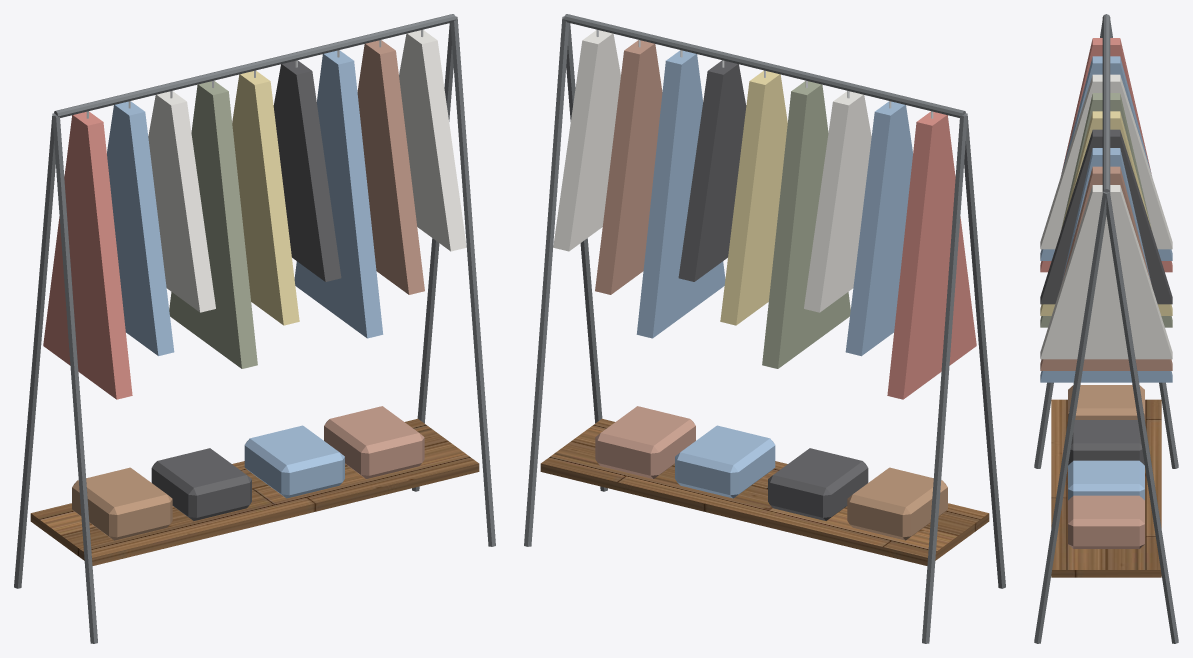
Rendered from wardrobe.glb.
3 views of the same model, side by side, from view 1: azimuth 30°, elevation 25°; view 2: azimuth 150°, elevation 25°; view 3: azimuth 270°, elevation 25° (orthographic). The views are drawn at different scales.
Parts seen in each view (by area): view 1: wardrobe_cloth_b, wardrobe_bed_w, wardrobe_steel_d, wardrobe_fabric3, wardrobe_cloth_r, wardrobe_dark, wardrobe_timber, wardrobe_fabric2, wardrobe_cloth_y, wardrobe_leather; view 2: wardrobe_cloth_b, wardrobe_bed_w, wardrobe_steel_d, wardrobe_fabric3, wardrobe_cloth_r, wardrobe_dark, wardrobe_timber, wardrobe_fabric2, wardrobe_cloth_y, wardrobe_leather; view 3: wardrobe_bed_w, wardrobe_steel_d, wardrobe_dark, wardrobe_timber, wardrobe_cloth_b, wardrobe_fabric3, wardrobe_leather, wardrobe_cloth_y, wardrobe_cloth_r, wardrobe_fabric2.
Boxes of the visible parts, bbox=[...] form: wardrobe_cloth_b: bbox=[107, 50, 383, 498]; wardrobe_bed_w: bbox=[148, 30, 466, 312]; wardrobe_steel_d: bbox=[14, 14, 495, 643]; wardrobe_fabric3: bbox=[324, 40, 424, 478]; wardrobe_cloth_r: bbox=[43, 111, 132, 399]; wardrobe_dark: bbox=[151, 60, 341, 520]; wardrobe_timber: bbox=[30, 418, 479, 565]; wardrobe_fabric2: bbox=[169, 81, 257, 368]; wardrobe_cloth_y: bbox=[232, 71, 299, 325]; wardrobe_leather: bbox=[72, 467, 172, 540]; wardrobe_cloth_b: bbox=[636, 50, 912, 498]; wardrobe_bed_w: bbox=[553, 30, 871, 312]; wardrobe_steel_d: bbox=[524, 14, 1005, 643]; wardrobe_fabric3: bbox=[595, 40, 695, 478]; wardrobe_cloth_r: bbox=[887, 111, 976, 399]; wardrobe_dark: bbox=[678, 60, 868, 520]; wardrobe_timber: bbox=[540, 418, 989, 565]; wardrobe_fabric2: bbox=[762, 81, 850, 368]; wardrobe_cloth_y: bbox=[720, 71, 787, 325]; wardrobe_leather: bbox=[847, 467, 947, 540]; wardrobe_bed_w: bbox=[1040, 74, 1172, 359]; wardrobe_steel_d: bbox=[1034, 14, 1178, 643]; wardrobe_dark: bbox=[1040, 129, 1172, 465]; wardrobe_timber: bbox=[1051, 399, 1161, 577]; wardrobe_cloth_b: bbox=[1040, 56, 1172, 500]; wardrobe_fabric3: bbox=[1040, 166, 1172, 548]; wardrobe_leather: bbox=[1068, 385, 1144, 419]; wardrobe_cloth_y: bbox=[1040, 111, 1172, 315]; wardrobe_cloth_r: bbox=[1040, 38, 1172, 272]; wardrobe_fabric2: bbox=[1040, 93, 1172, 327].
Size of the model in its own units: 1.53 by 1.82 by 0.524.
Materials: 11 (1 with a texture image).
